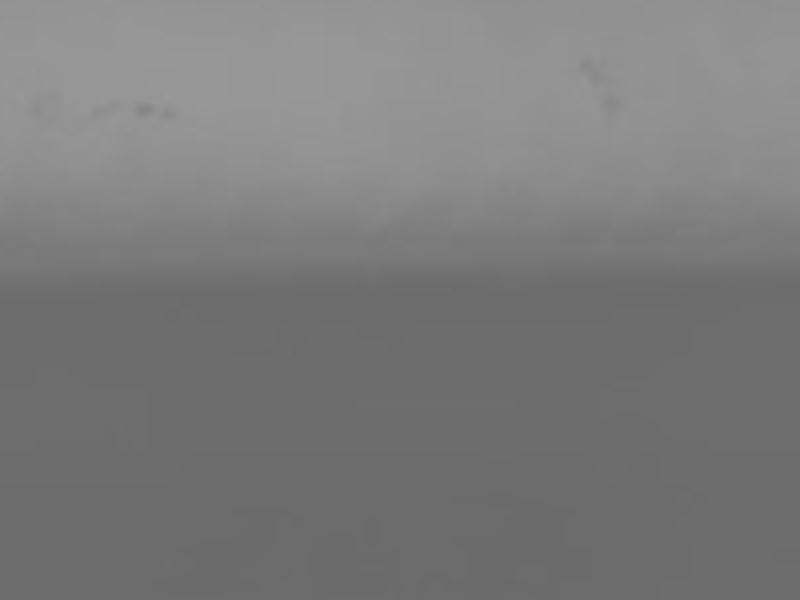defect: (582, 61, 609, 85), (136, 100, 158, 119), (608, 97, 626, 117)
